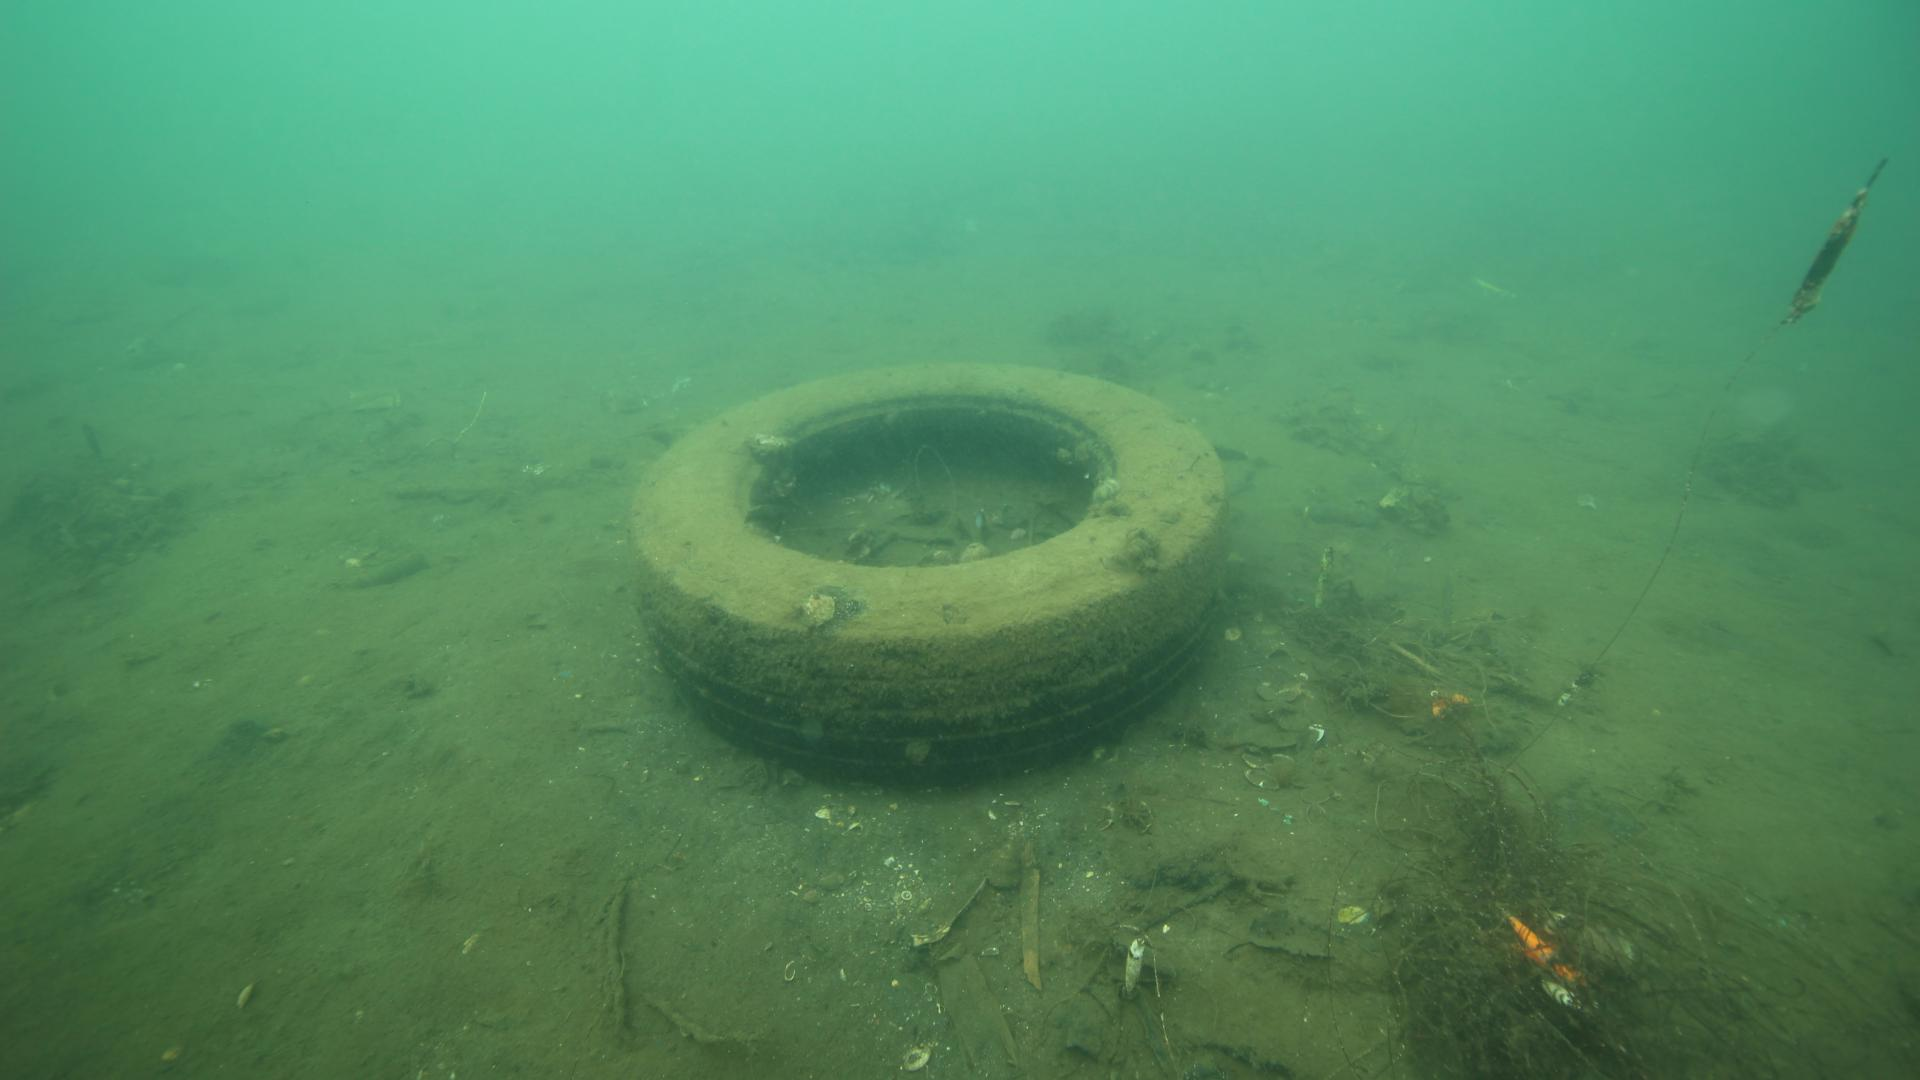tire: (628, 357, 1226, 787)
